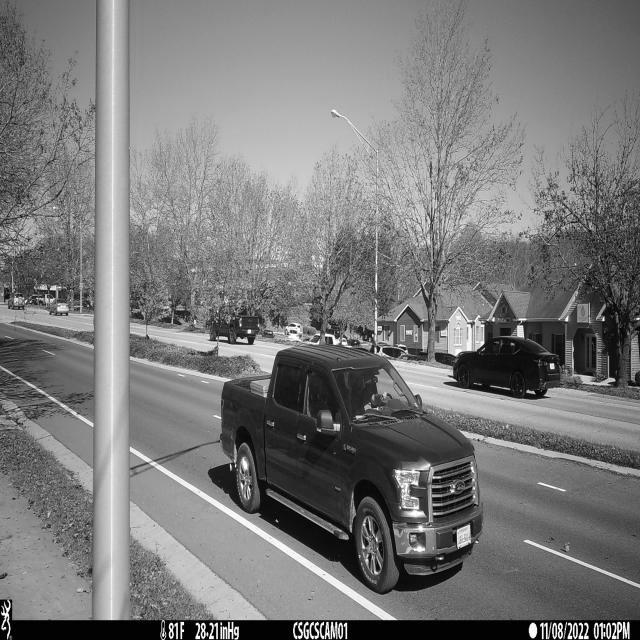Pickup: (219, 344, 483, 596)
